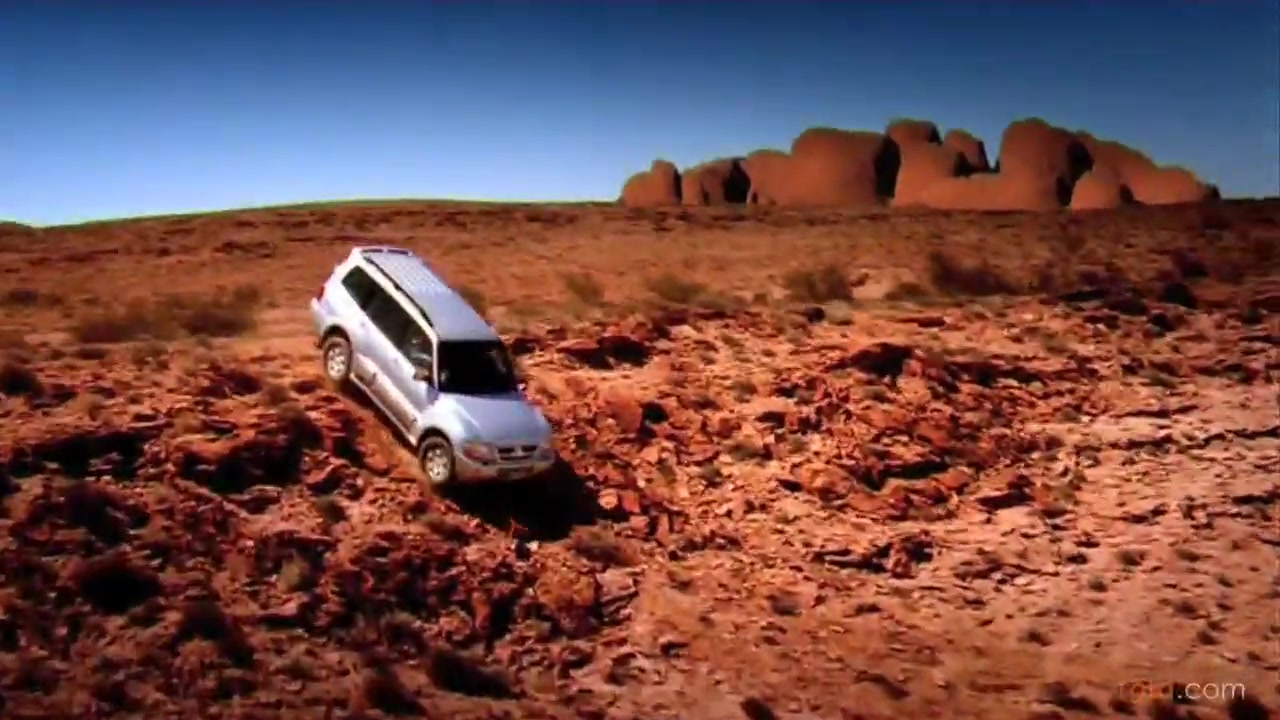car: (302, 238, 558, 490)
